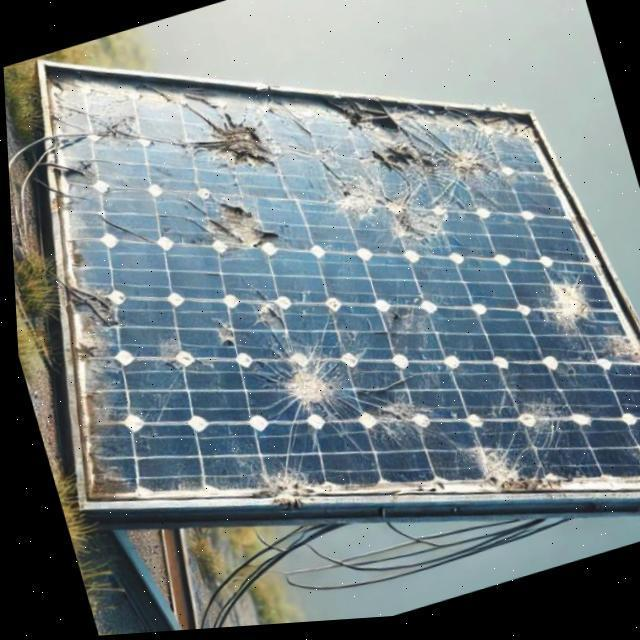Anomaly Solar Panel: (42, 65, 640, 502)
Structural Damage: (415, 396, 538, 514), (166, 77, 287, 195), (478, 382, 590, 494), (348, 378, 445, 464), (190, 190, 278, 272), (380, 186, 454, 260), (250, 452, 322, 520), (236, 294, 296, 372), (348, 102, 422, 164), (271, 352, 337, 418), (530, 278, 592, 346), (438, 142, 498, 205), (367, 294, 427, 357), (324, 171, 386, 230), (632, 446, 640, 504)
